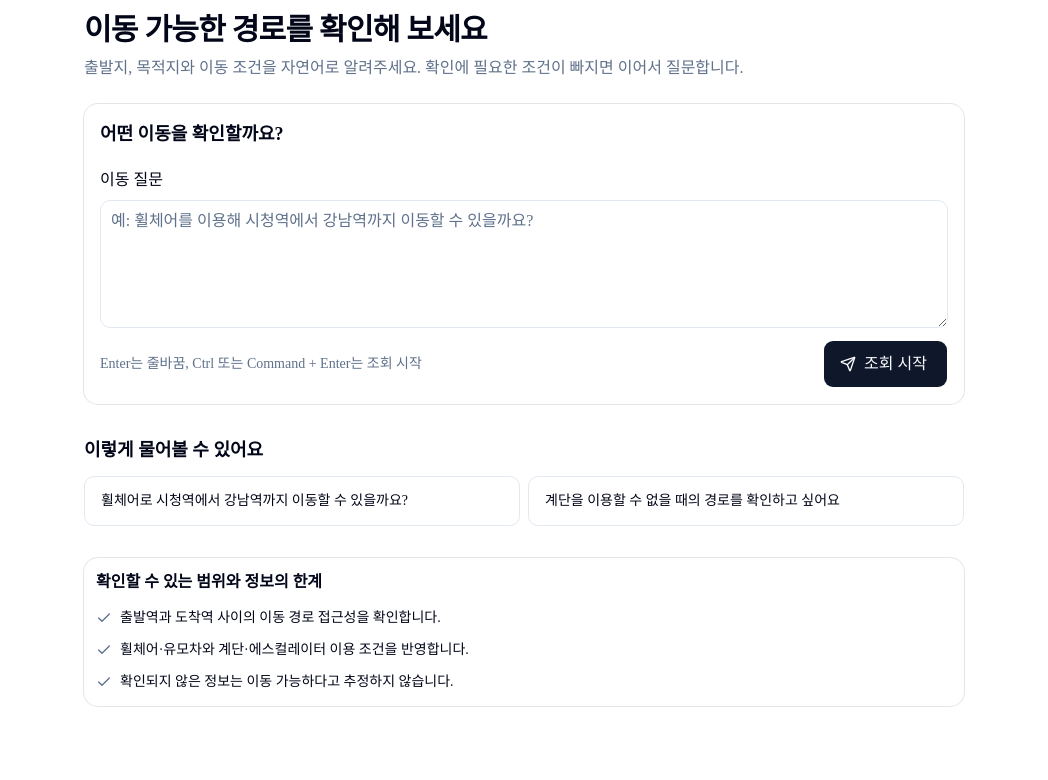
Test: AssistantWorkspace › lazy-creates a thread only when the first question is submitted
Type "휠체어로 시청역에서 강남역까지 갈 수 있나요?" into the text box labelled "이동 질문" at {"x": 524, "y": 264}, box [100,200,948,328]
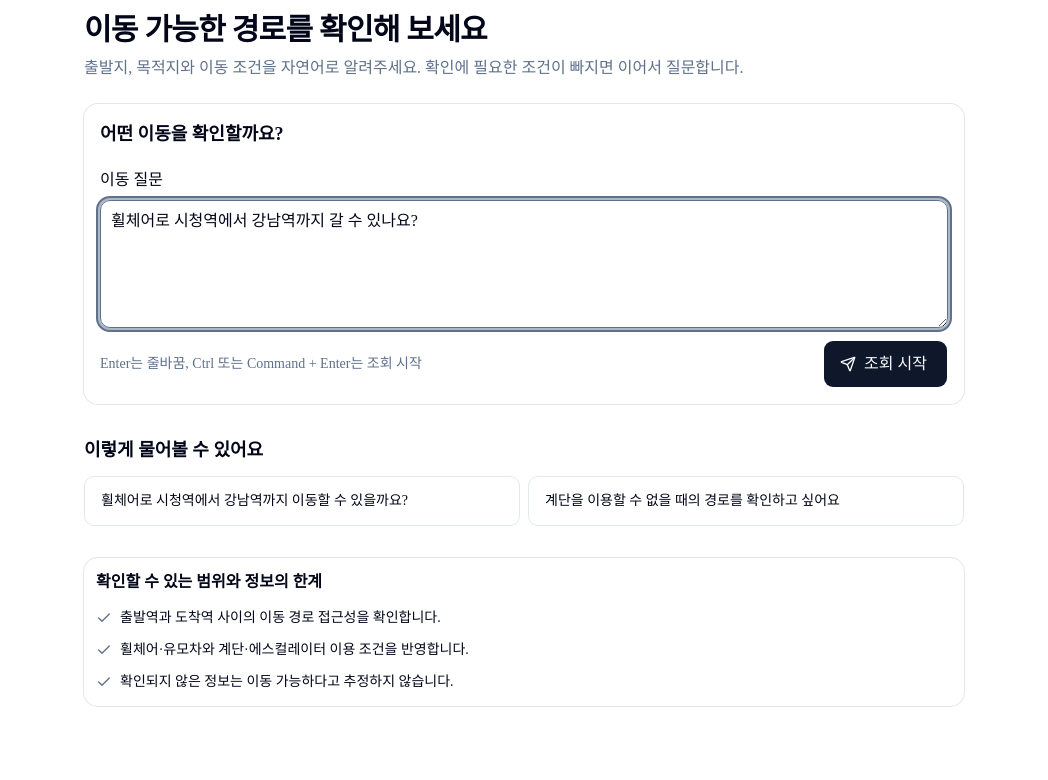
Click the button "조회 시작" at {"x": 886, "y": 364}, box [823,340,948,388]
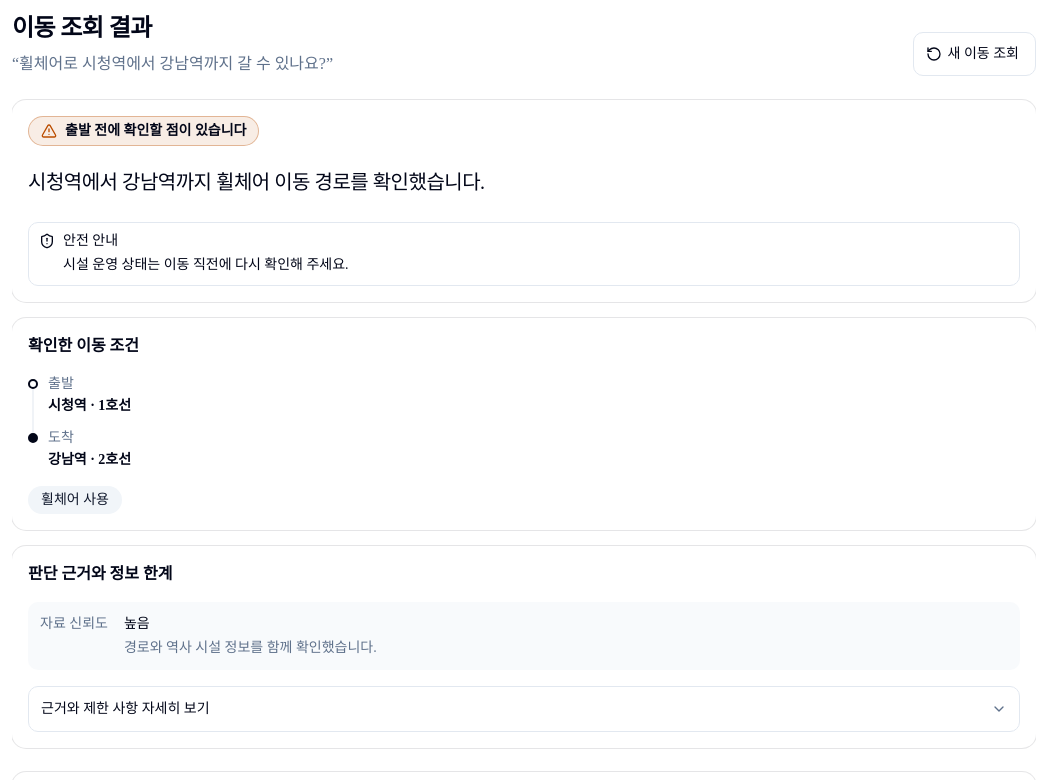
Now the text "시청역에서 강남역까지 휠체어 이동 경로를 확인했습니다." is shown, box [28,171,485,193]
